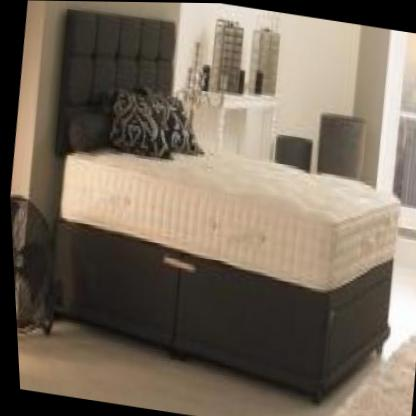Bed: (6, 0, 416, 416)
